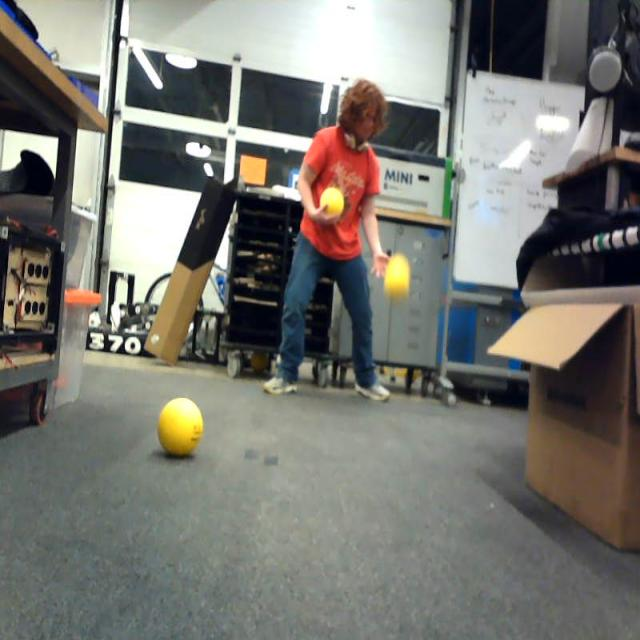Fuel: (158, 398, 203, 458), (384, 257, 410, 298), (320, 187, 344, 218)
